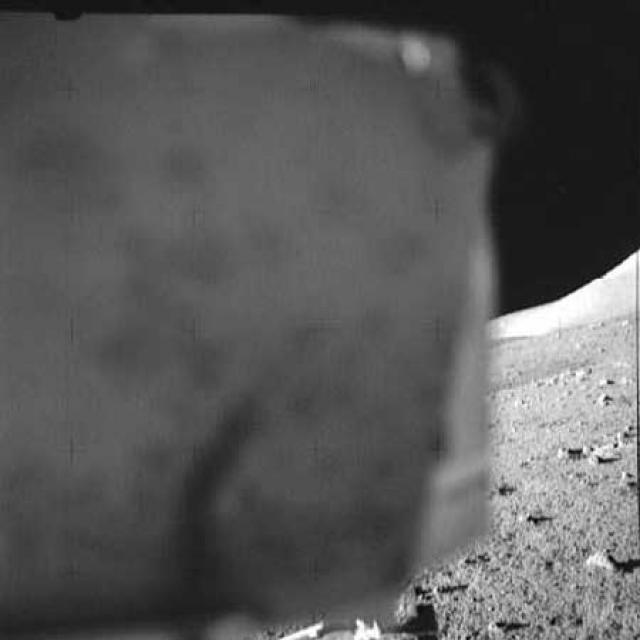rock: (580, 546, 624, 578), (547, 436, 586, 461), (610, 416, 638, 448), (591, 447, 618, 468), (620, 465, 639, 492), (594, 388, 614, 410)
